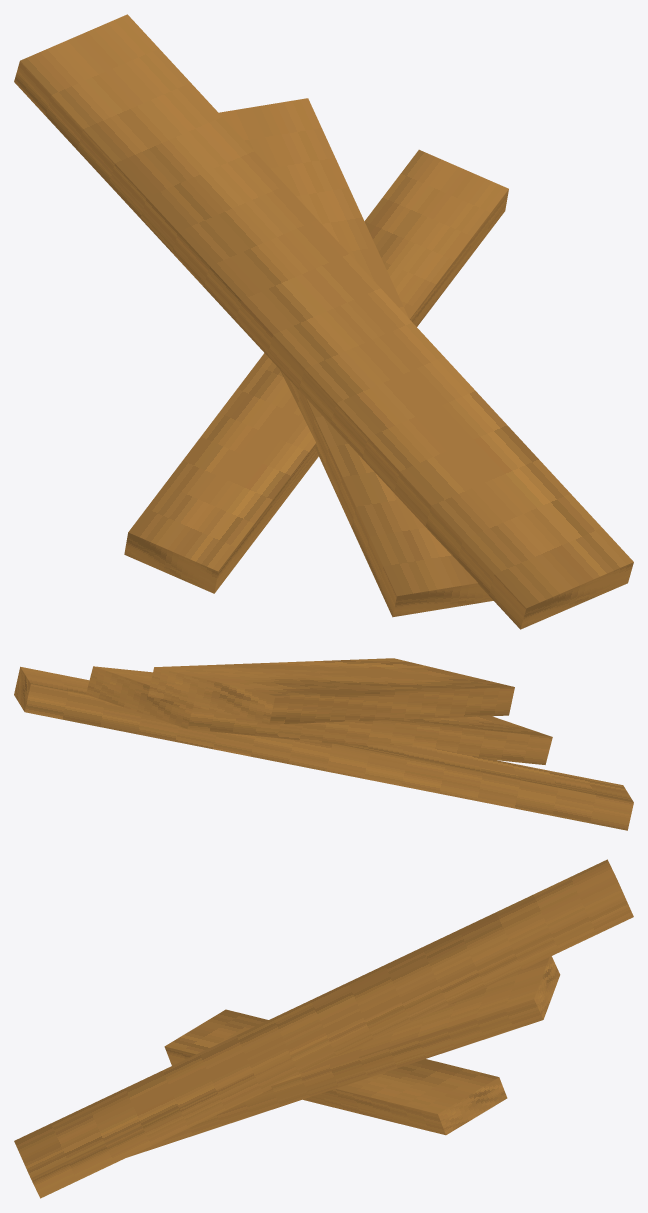
File: wood_planks.glb
The picture shows the model from 3 angles, top to bottom: view 1: azimuth 30°, elevation 25°; view 2: azimuth 150°, elevation 25°; view 3: azimuth 270°, elevation 25°; orthographic projection. The views are drawn at different scales.
Parts seen in each view (by area): view 1: Wood_planks; view 2: Wood_planks; view 3: Wood_planks.
Part boxes in pixels (x1,y1,x2,y2): Wood_planks: (14,14,633,629); Wood_planks: (14,658,633,830); Wood_planks: (14,859,633,1198).
Bounding box in the file's own units: 1.35 × 0.8366 × 1.8.
Materials: 1 (1 with a texture image).
